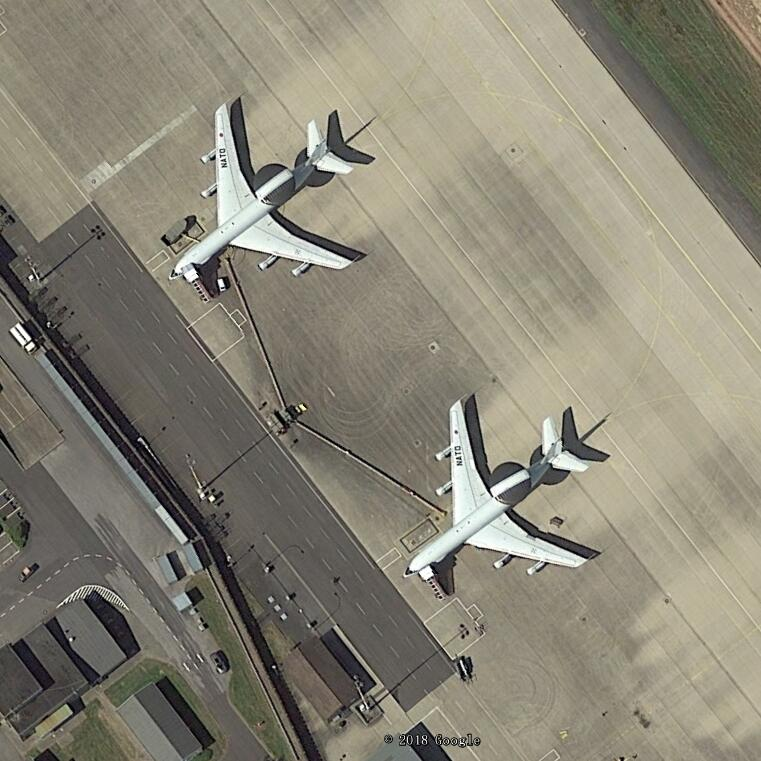A7: (401, 396, 590, 592), (168, 103, 358, 289)
